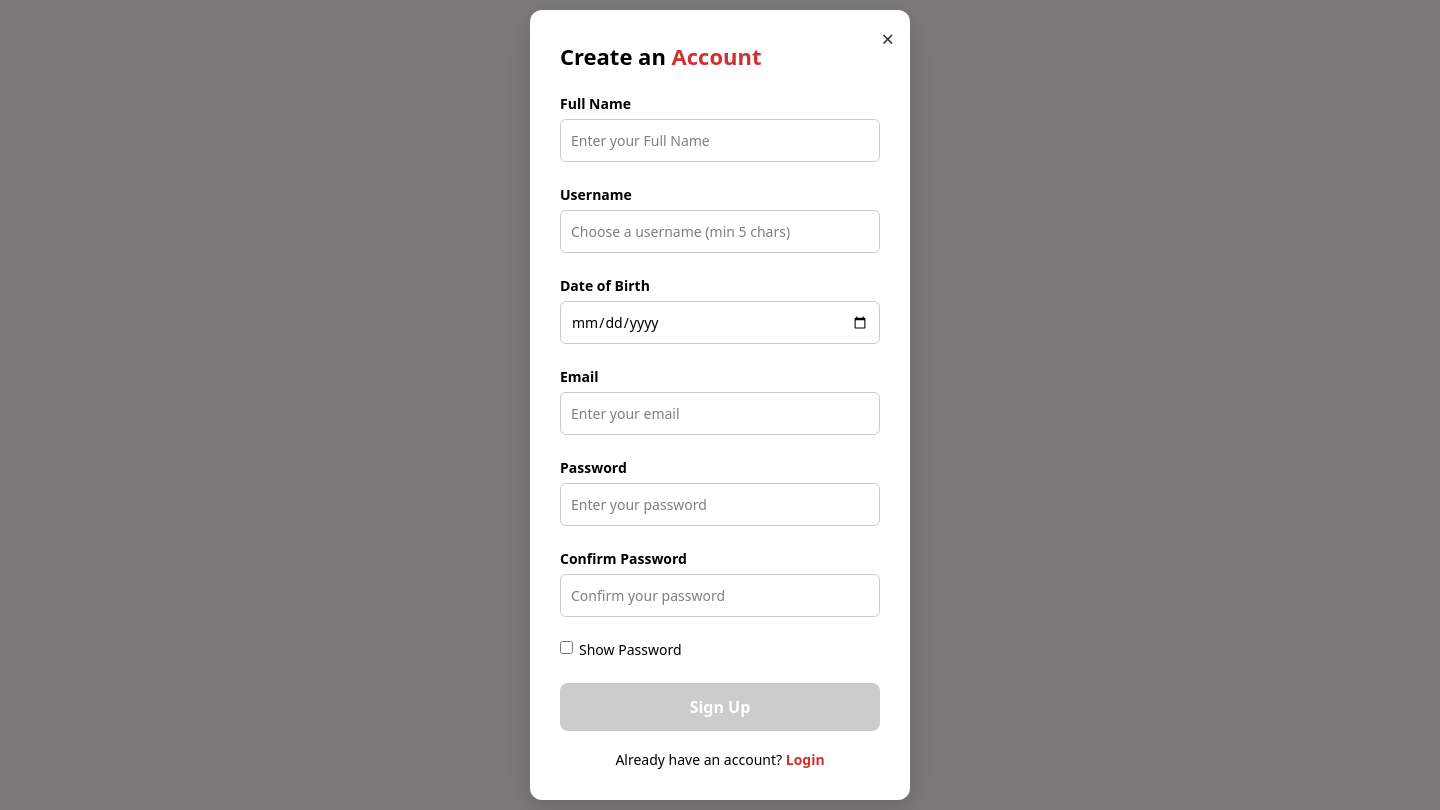
Test: SignUp Component › validates Password Mismatch
Type "Pass123!" into the password field with placeholder "Enter your password" at (720, 504), box 560,483 -> 880,526
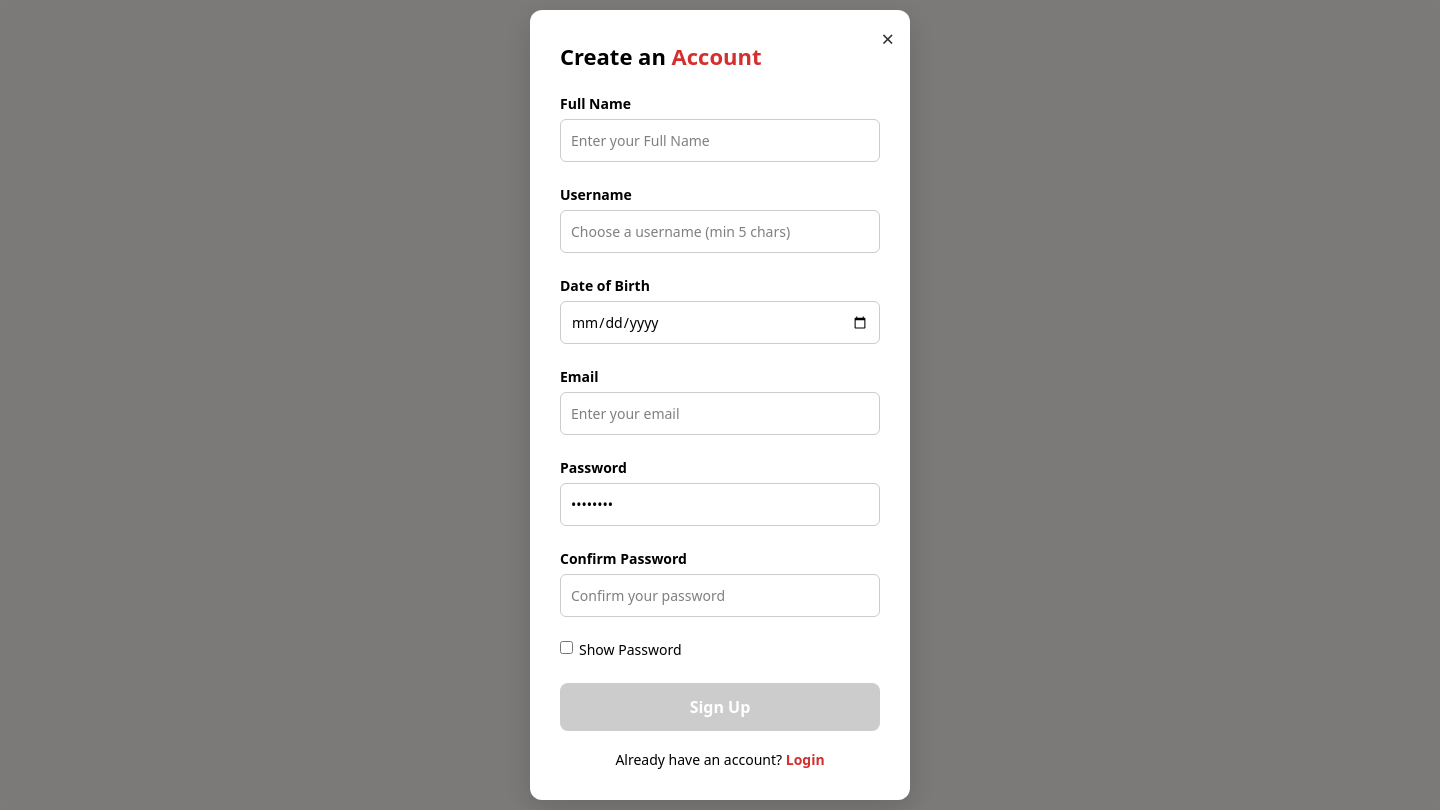
Type "Different123!" into the password field with placeholder "Confirm your password" at (720, 596), box 560,574 -> 880,617
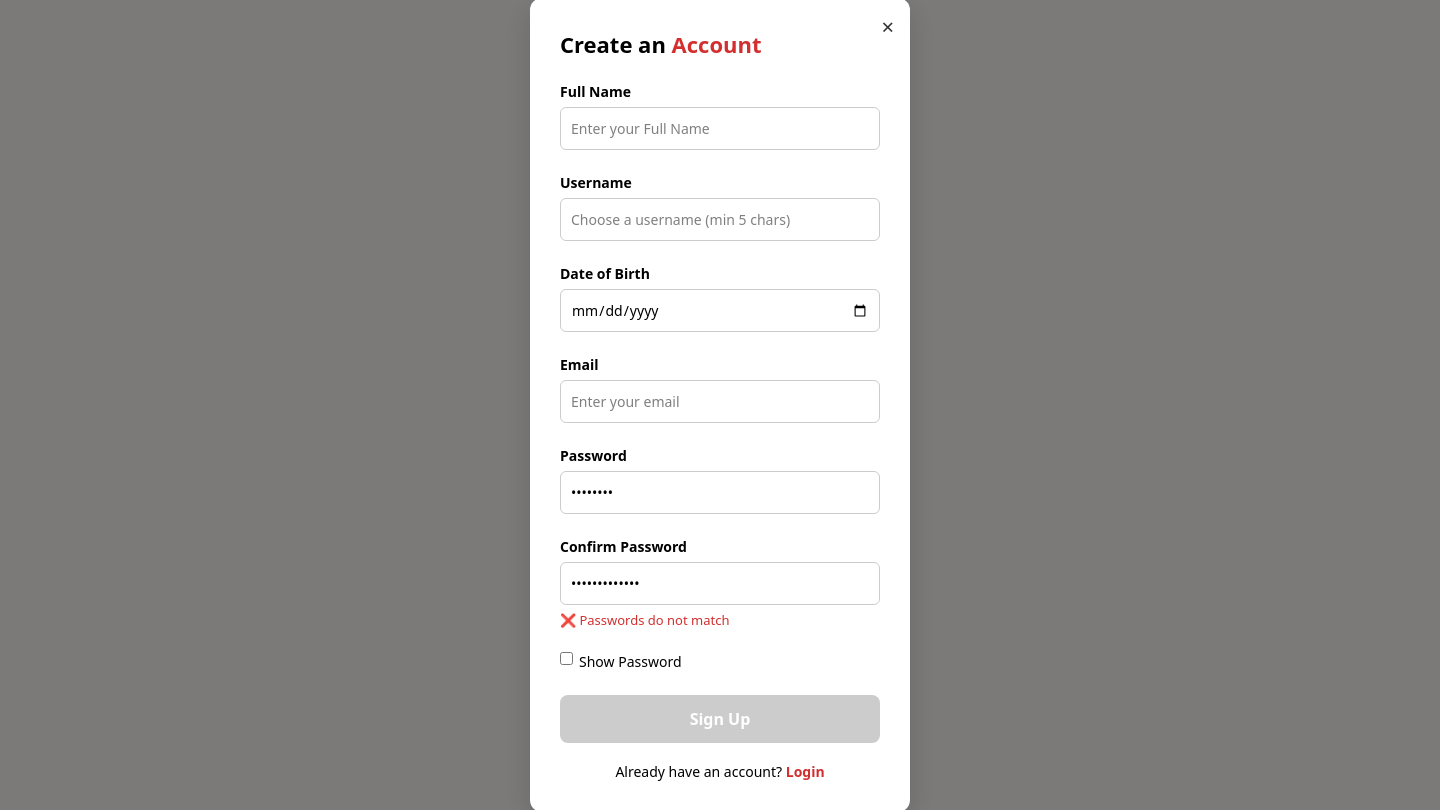
Expected: the button "Sign Up" is disabled, 560,695 -> 880,743
Now the text "❌ Passwords do not match" is shown, box 560,611 -> 729,629
